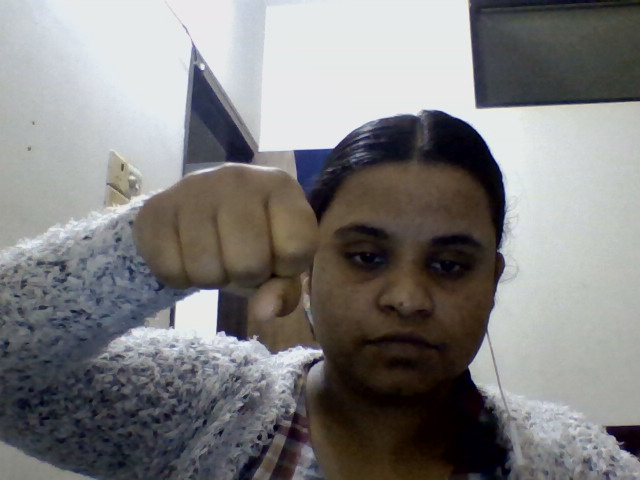Yes: (97, 120, 339, 339)
